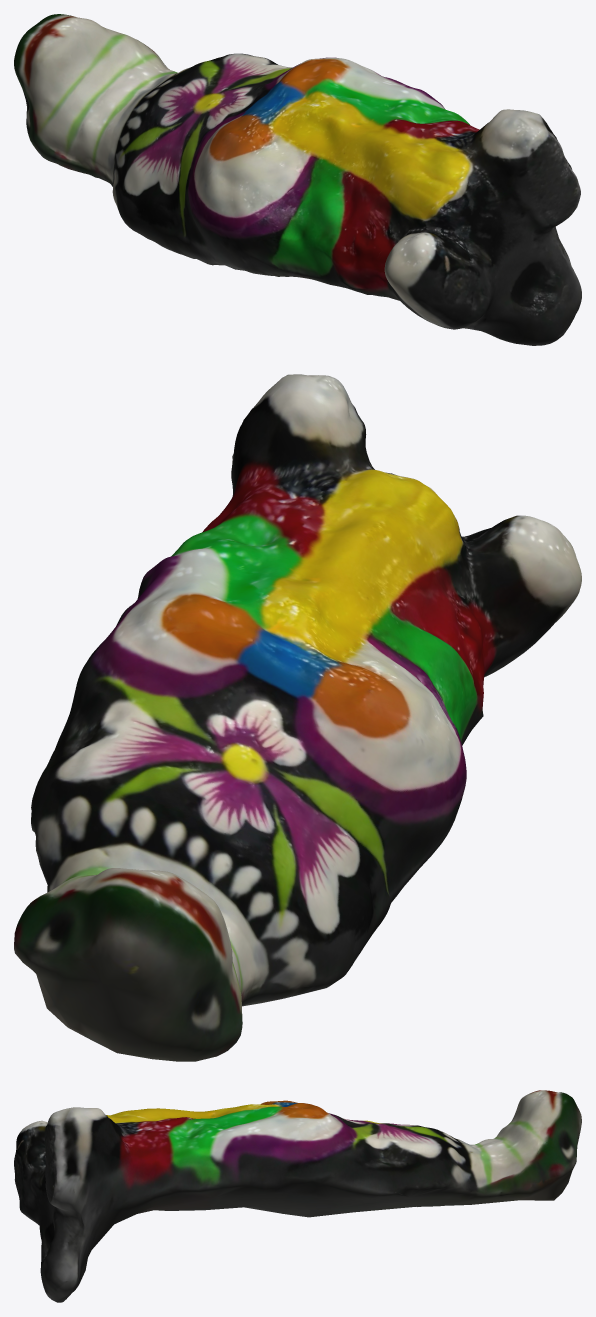
3 renders of one model, top to bottom at view 1: azimuth 30°, elevation 25°; view 2: azimuth 150°, elevation 25°; view 3: azimuth 270°, elevation 25°, orthographic. The views are drawn at different scales.
Size of the model in its own units: 0.393 by 0.3086 by 0.839.
Materials: 1 (1 with a texture image).
